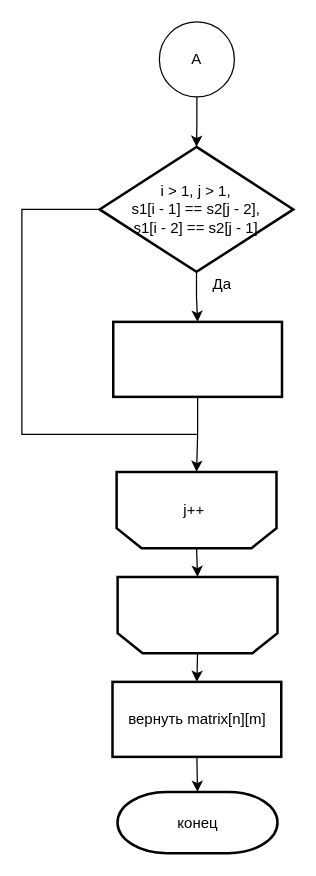
Image size: 316x876. Some labels were removed from this diagram. Each missing label, with the centre of its shape:
i++: point (197, 614)
matrix[i][j] = min( matrix[i][j], matrix[i - 2][j - 2] + 1): point (197, 359)
